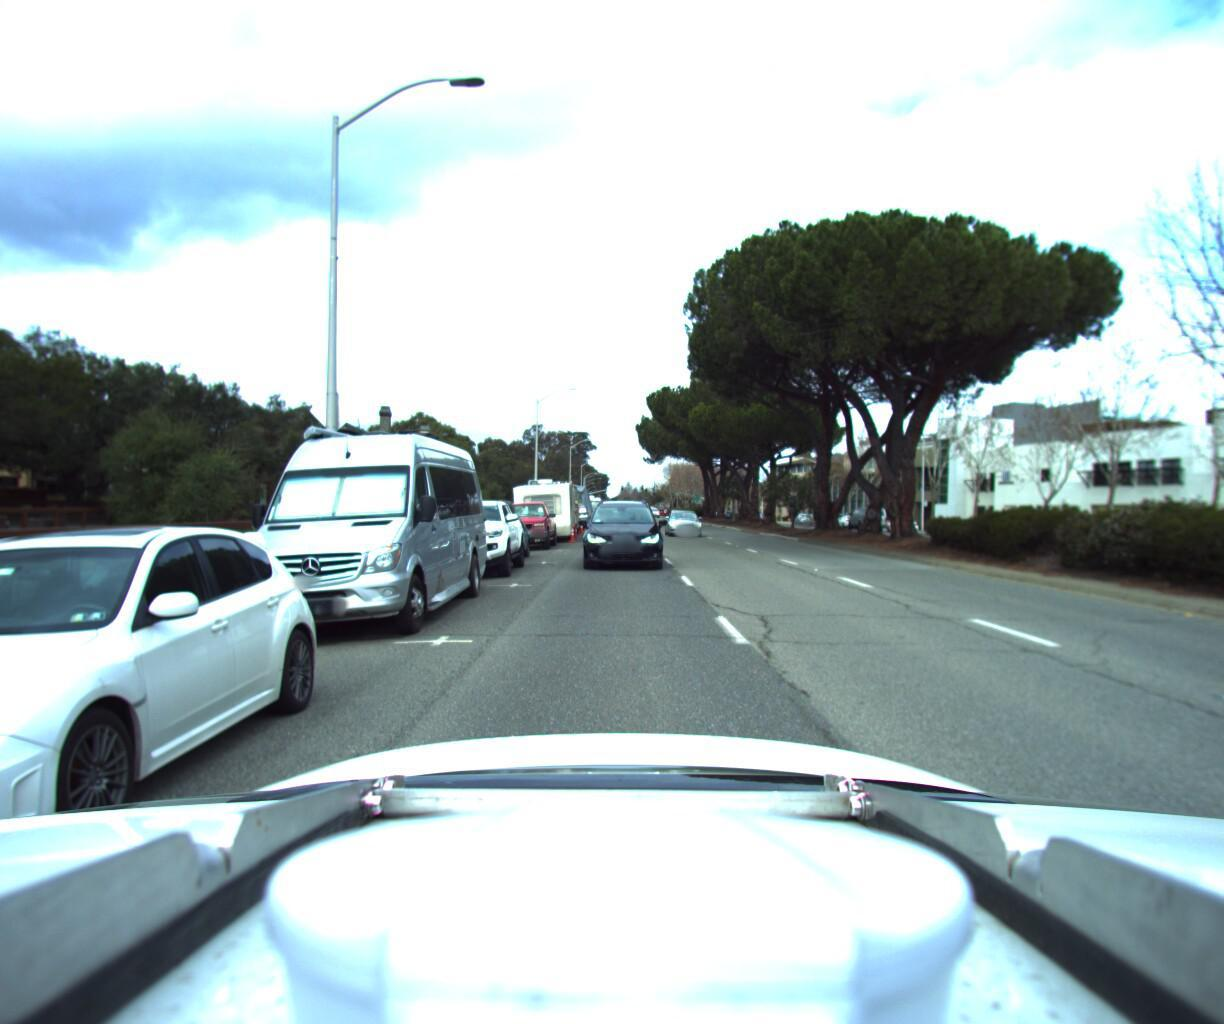bus: (547, 476, 592, 525)
car: (0, 526, 326, 988), (215, 402, 492, 658), (418, 495, 528, 580), (583, 492, 664, 569), (464, 493, 529, 559), (492, 492, 558, 550), (665, 503, 703, 533)
other_vehicle: (506, 466, 579, 539), (525, 471, 583, 531)
